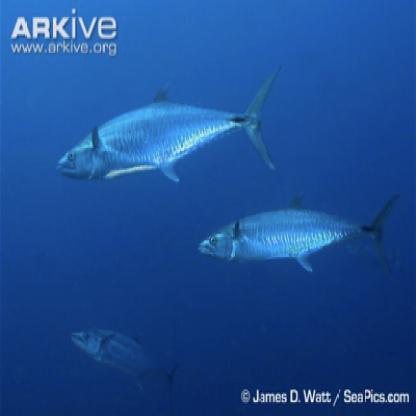tuna: (55, 59, 278, 193), (192, 190, 377, 279), (67, 314, 187, 398)
